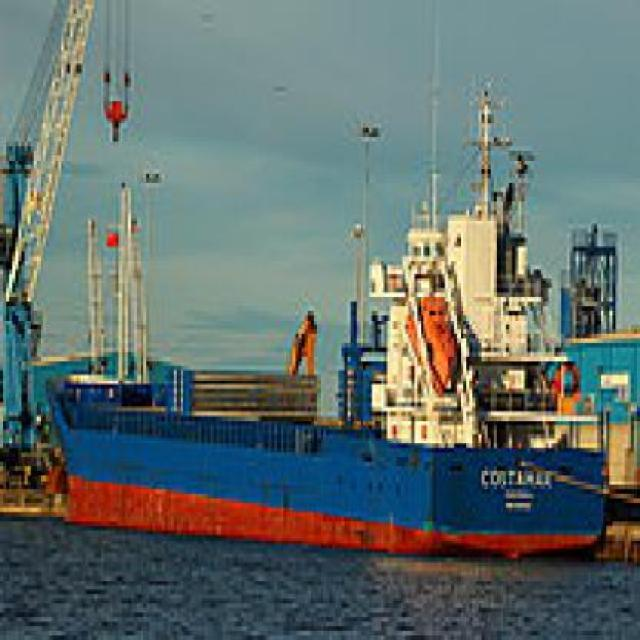container: (43, 74, 611, 568)
